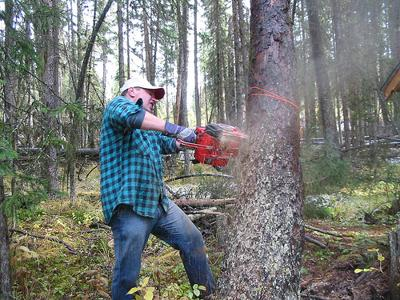person: (99, 77, 218, 300)
